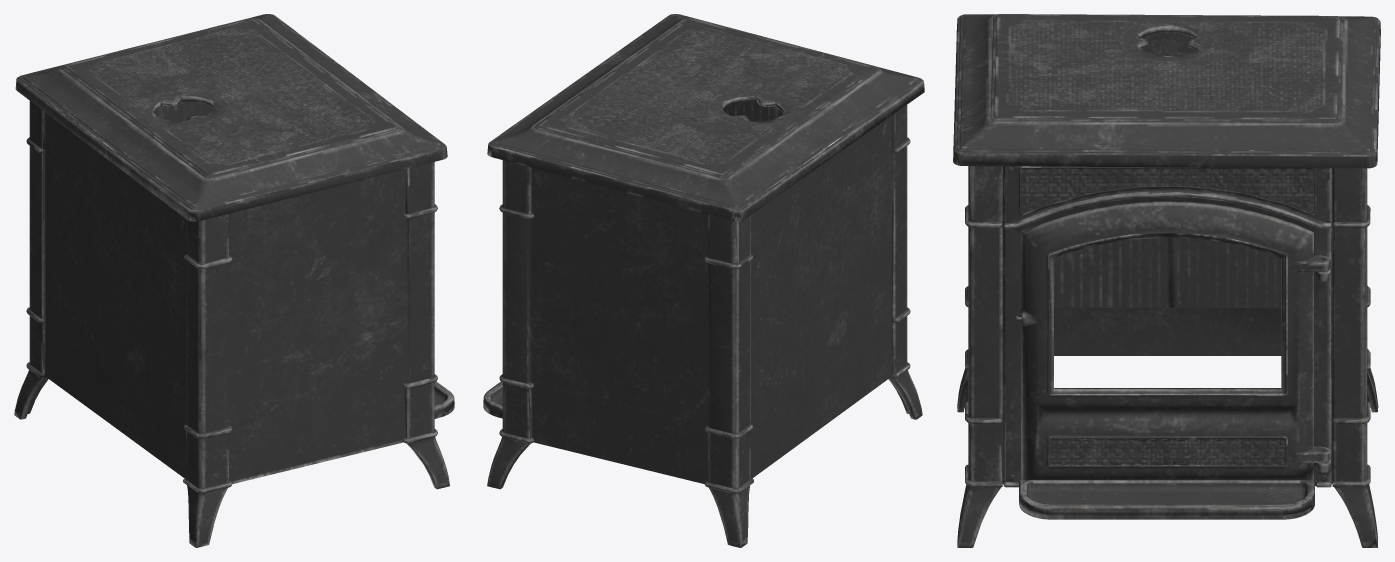
File: Fireplace.fbx
3 views of the same model, side by side, from view 1: azimuth 30°, elevation 25°; view 2: azimuth 150°, elevation 25°; view 3: azimuth 270°, elevation 25° (orthographic). The views are drawn at different scales.
Visible parts, largest first — view 1: defaultMaterial; view 2: defaultMaterial; view 3: defaultMaterial.
Boxes of the visible parts, x1,y1,x2,y2 form: defaultMaterial: (14,14,454,547); defaultMaterial: (483,14,924,547); defaultMaterial: (953,14,1380,547).
Bounding box in the file's own units: 177 × 200 × 189.
